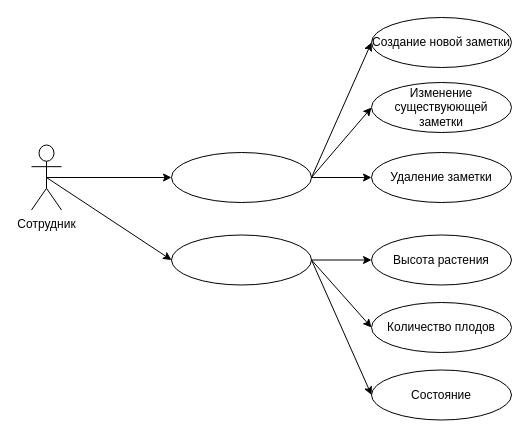
This 529x438 diagram has some shape labels left out. The centre of each missing label's shape, as x and y in pixels:
"Обновление данных о растениях" belongs at [241,177].
"Просмотр данных о растениях" belongs at [241,259].
